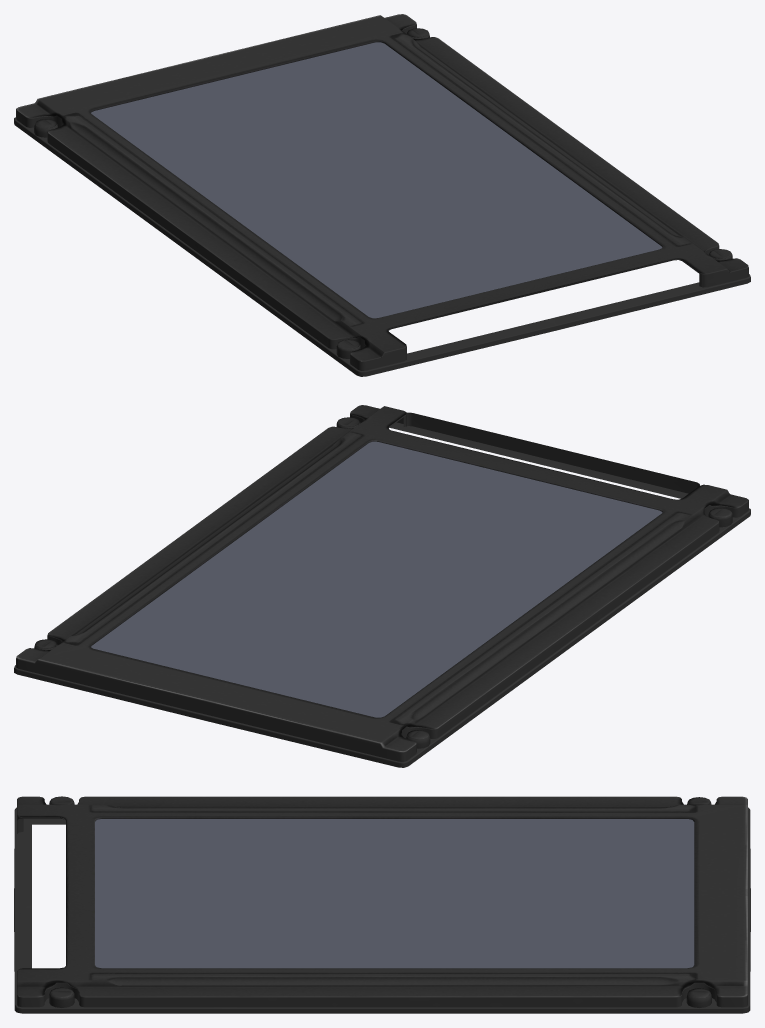
Rendered from RDU-4047.glb.
3 renders of one model, top to bottom at view 1: azimuth 30°, elevation 25°; view 2: azimuth 150°, elevation 25°; view 3: azimuth 270°, elevation 25°, orthographic. The views are drawn at different scales.
Parts seen in each view (by area): view 1: Plane, RDU-4047.002, Cube; view 2: Plane, RDU-4047.002, Cube, RDU-4047.004; view 3: Plane, RDU-4047.002, Cube, Cylinder.002, Cylinder.003.
Part boxes in pixels (x1,y1,x2,y2): Plane: [91, 42, 662, 318]; RDU-4047.002: [16, 14, 748, 370]; Cube: [14, 117, 750, 376]; Plane: [91, 441, 662, 717]; RDU-4047.002: [16, 405, 748, 761]; Cube: [14, 422, 750, 767]; RDU-4047.004: [403, 412, 699, 493]; Plane: [95, 819, 694, 968]; RDU-4047.002: [17, 796, 747, 1007]; Cube: [14, 807, 750, 1013]; Cylinder.002: [49, 796, 74, 1007]; Cylinder.003: [686, 797, 711, 1007].
Bounding box in the file's own units: 0.14 × 0.00635 × 0.2155.
2 materials, 1 textured.
